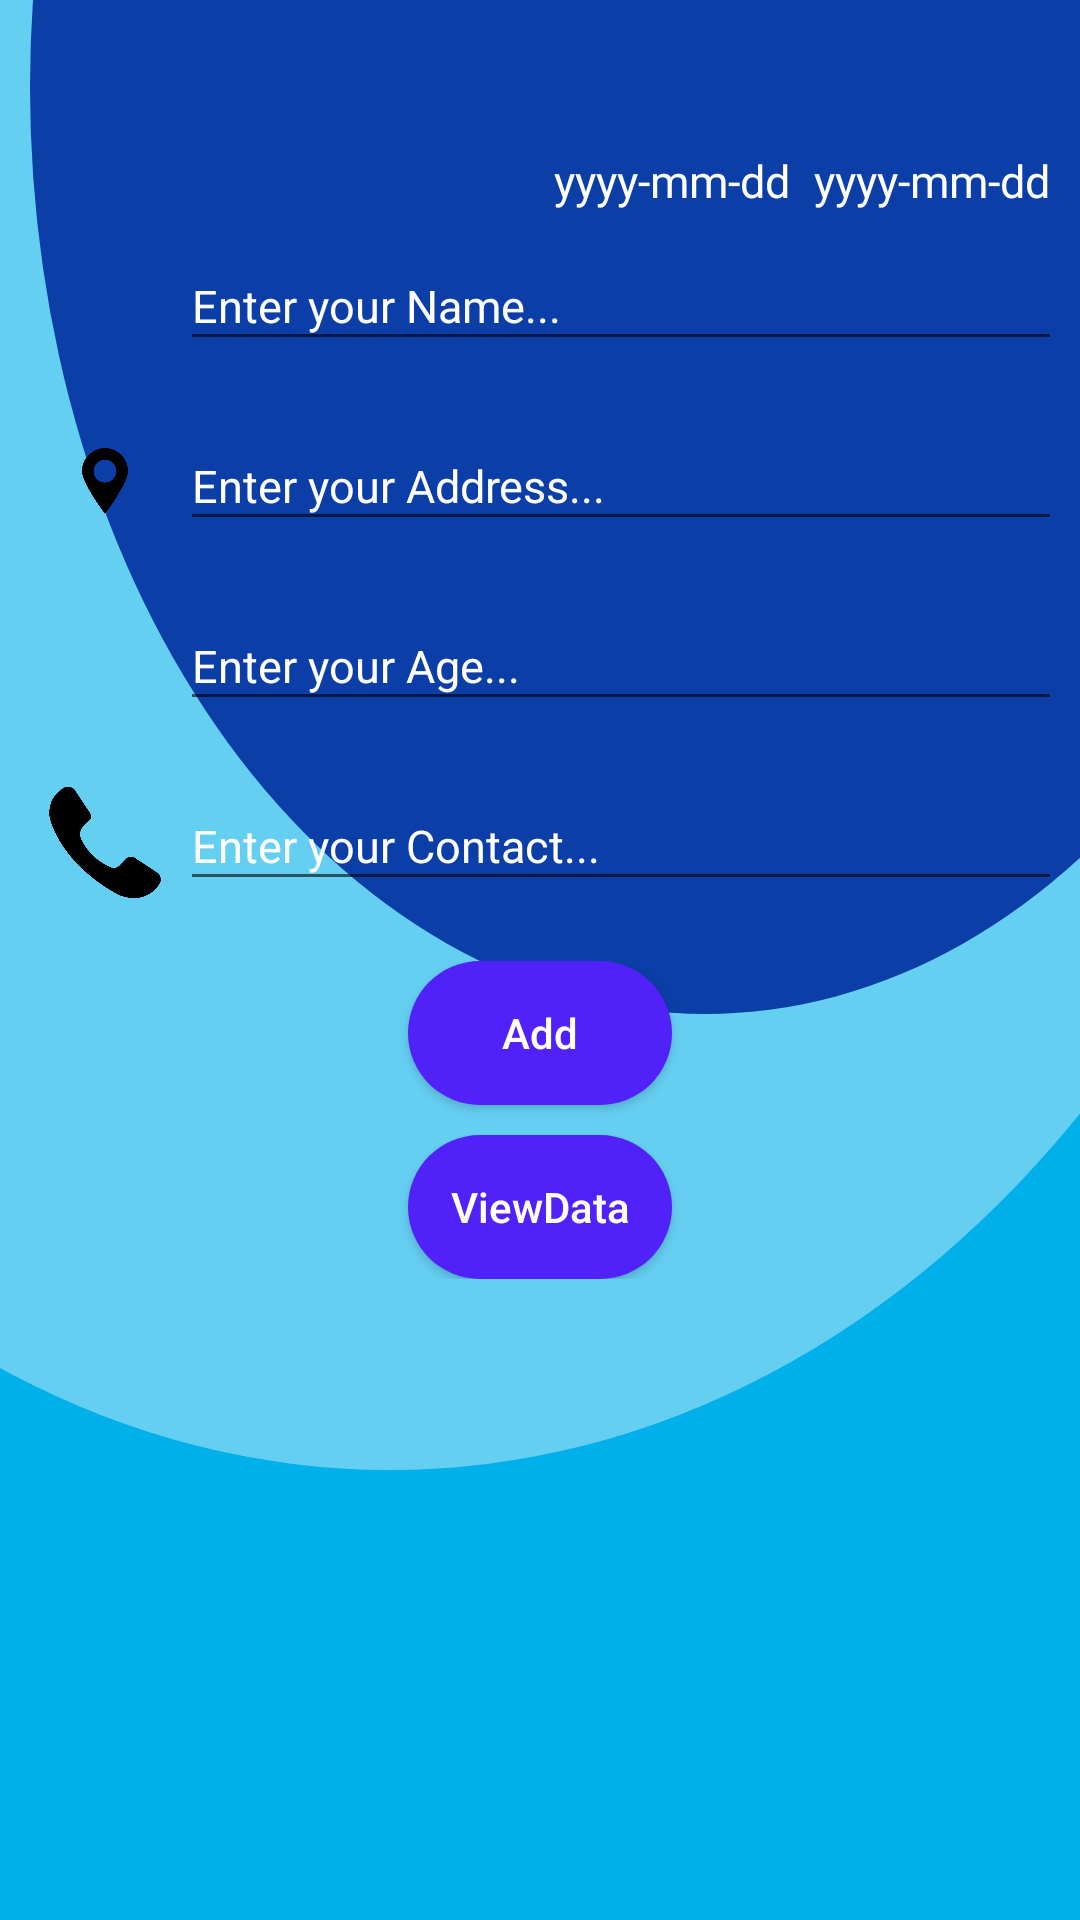

Where icons sit on this 1080w x 1920h app screen, as bbox(x1, y1, x2, y2):
newcontact: bbox(49, 787, 161, 898)
